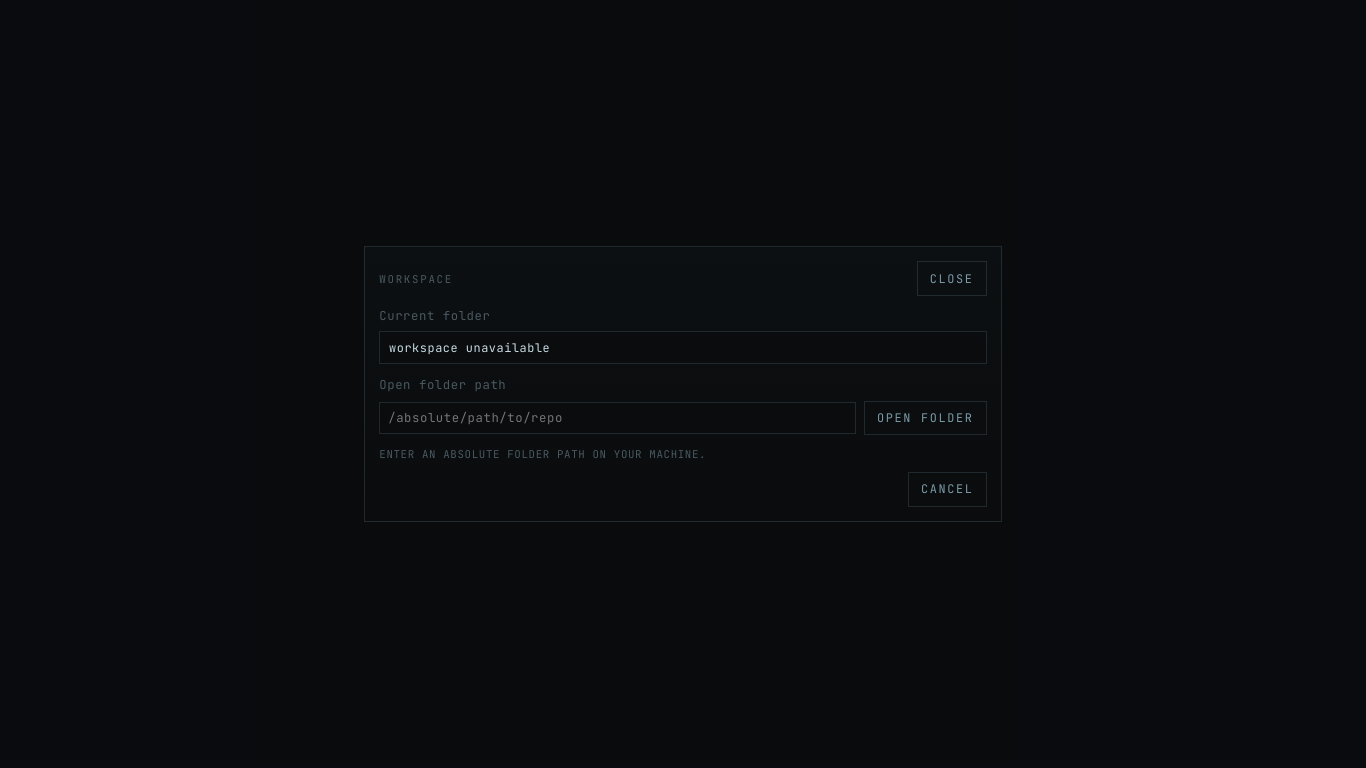
Test: WorkspaceModal › blocks save when path is empty
The image size is (1366, 768).
Click the button "open folder". click: (925, 418)
box: [864, 401, 987, 435]
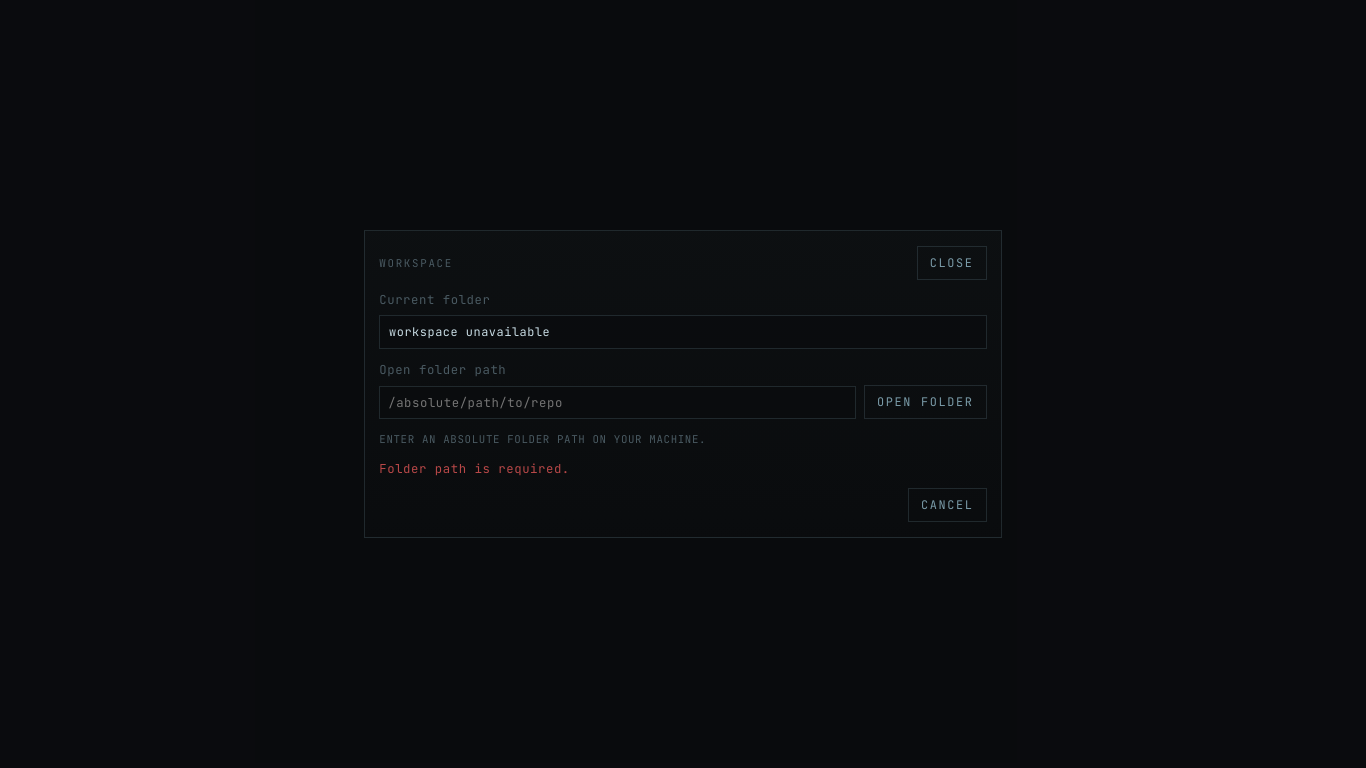
Expected: the text "Folder path is required." is shown, [379, 460, 570, 477]
